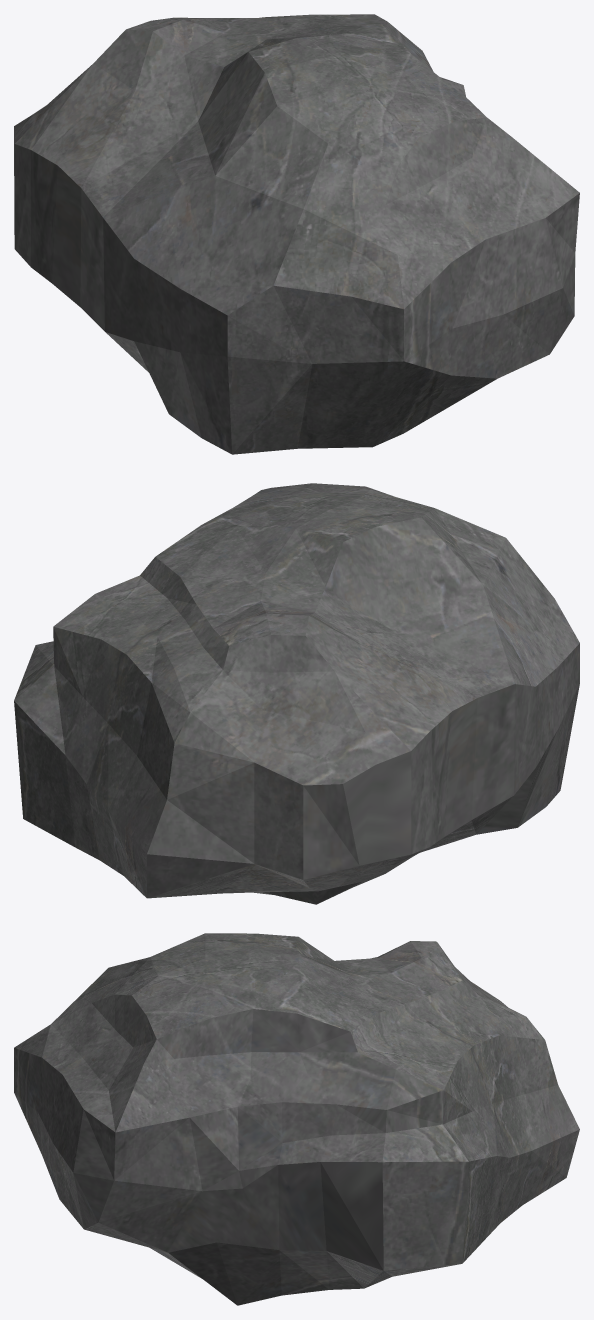
File: Rock04.fbx
The picture shows the model from 3 angles, top to bottom: view 1: azimuth 30°, elevation 25°; view 2: azimuth 150°, elevation 25°; view 3: azimuth 270°, elevation 25°; orthographic projection. The views are drawn at different scales.
Parts seen in each view (by area): view 1: SM_ENV_NATURE_Cave_Rock_M_01.mo; view 2: SM_ENV_NATURE_Cave_Rock_M_01.mo; view 3: SM_ENV_NATURE_Cave_Rock_M_01.mo.
Boxes of the visible parts, x1,y1,x2,y2 form: SM_ENV_NATURE_Cave_Rock_M_01.mo: (14, 14, 579, 454); SM_ENV_NATURE_Cave_Rock_M_01.mo: (14, 483, 579, 904); SM_ENV_NATURE_Cave_Rock_M_01.mo: (14, 933, 579, 1305).
Bounding box in the file's own units: 126 × 101 × 169.
1 material, 1 textured.
